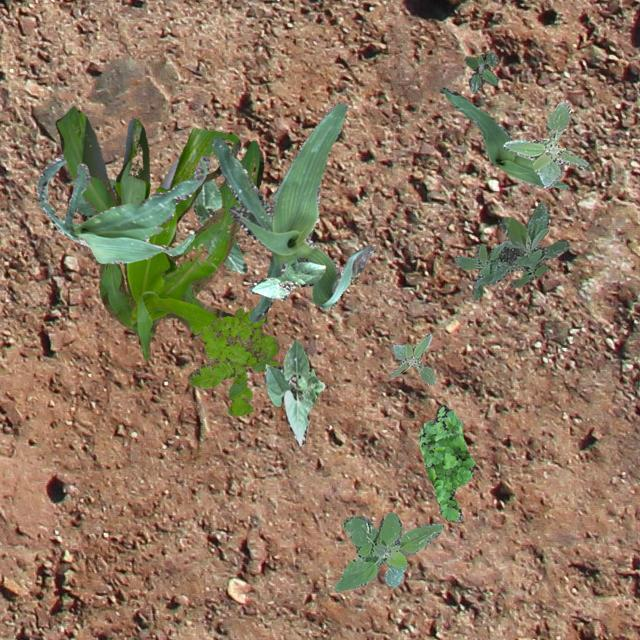crop: (54, 106, 262, 360), (210, 100, 374, 322), (35, 154, 208, 262), (438, 86, 566, 188), (262, 338, 324, 444), (188, 166, 246, 272), (247, 256, 326, 298), (73, 178, 115, 216)
weed: (454, 200, 568, 298), (186, 306, 278, 416), (333, 512, 442, 590), (502, 100, 588, 188), (418, 403, 474, 522), (390, 332, 436, 383), (463, 51, 498, 92)
